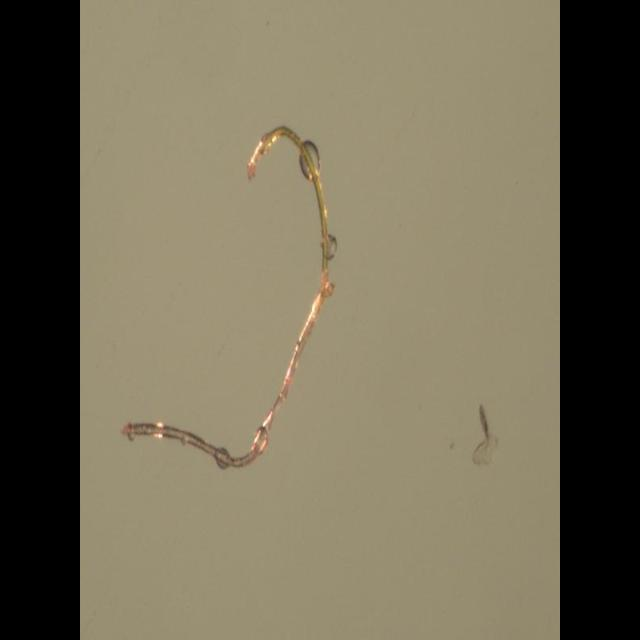Fibre: (120, 124, 338, 470)
